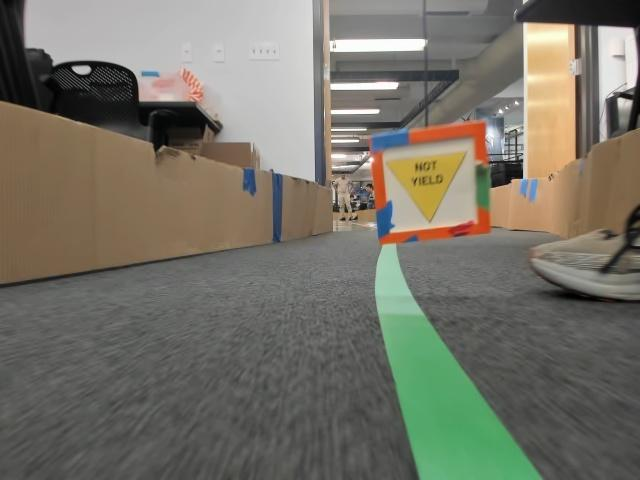Do Not Yield: (385, 160, 463, 223)
